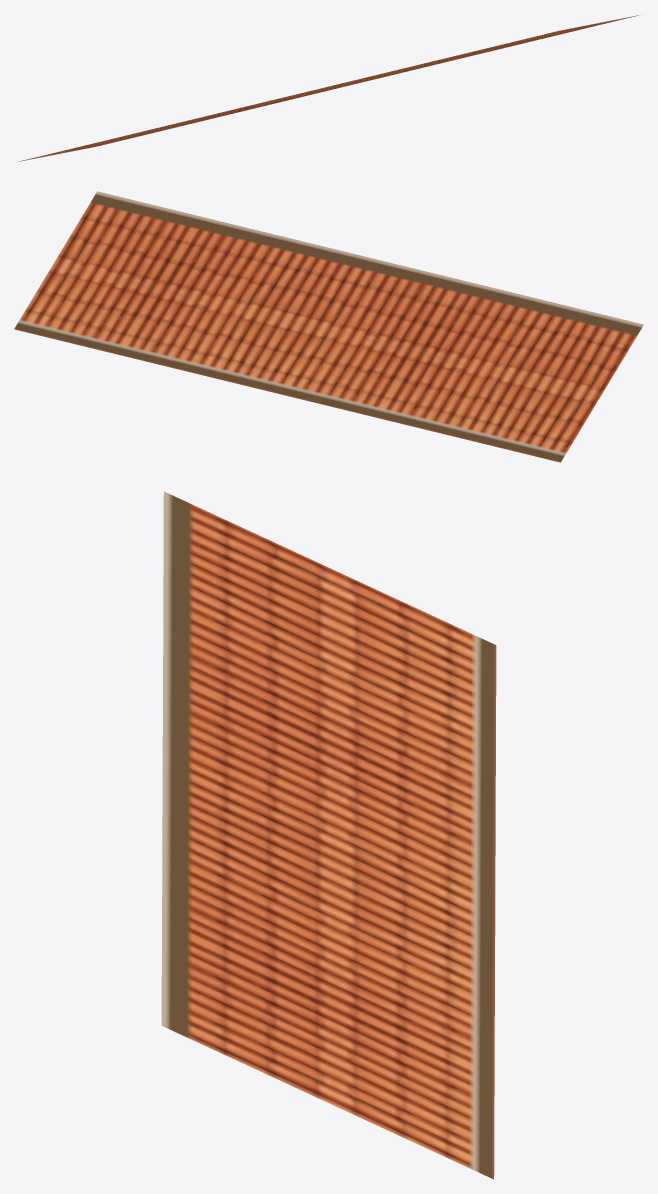
Rendered from TrangPhaiTren.glb.
3 views of the same model, one above another, from view 1: azimuth 30°, elevation 25°; view 2: azimuth 150°, elevation 25°; view 3: azimuth 270°, elevation 25° (orthographic). The views are drawn at different scales.
Visible parts, largest first — view 1: Object_4.012; view 2: Object_4.012; view 3: Object_4.012.
Part boxes in pixels (x1,y1,x2,y2): Object_4.012: [19, 15, 638, 161]; Object_4.012: [14, 191, 643, 462]; Object_4.012: [161, 491, 496, 1179].
Size of the model in its own units: 0.7306 by 0.0991 by 0.1938.
1 material, 1 textured.
